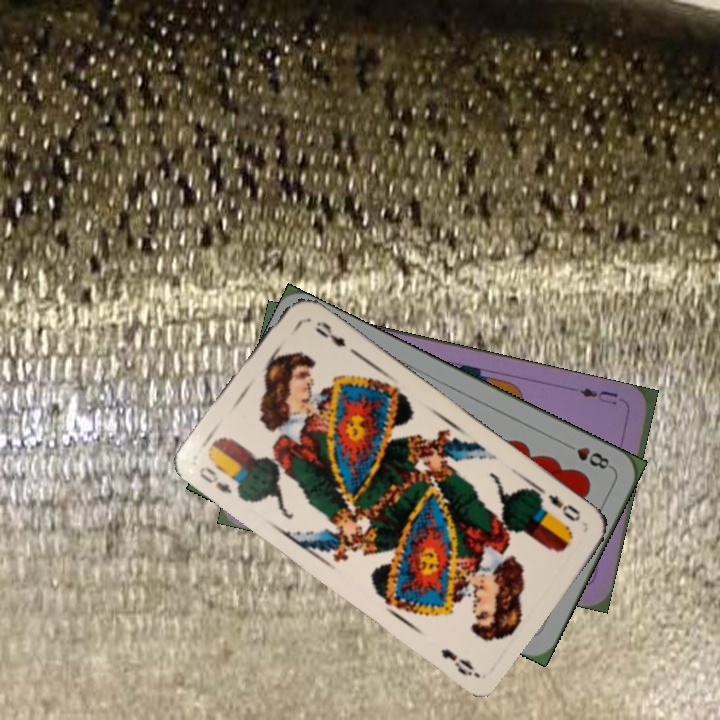EO: (194, 462, 235, 497), (544, 490, 584, 524)
EU: (575, 384, 620, 407)
H8: (560, 439, 615, 472)
